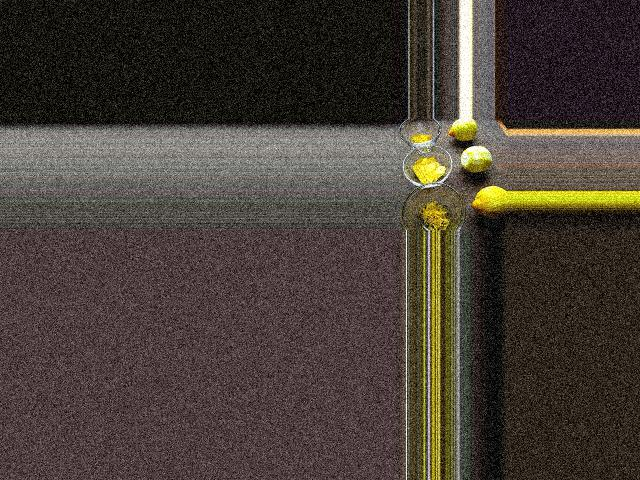lemon: (467, 186, 504, 216)
